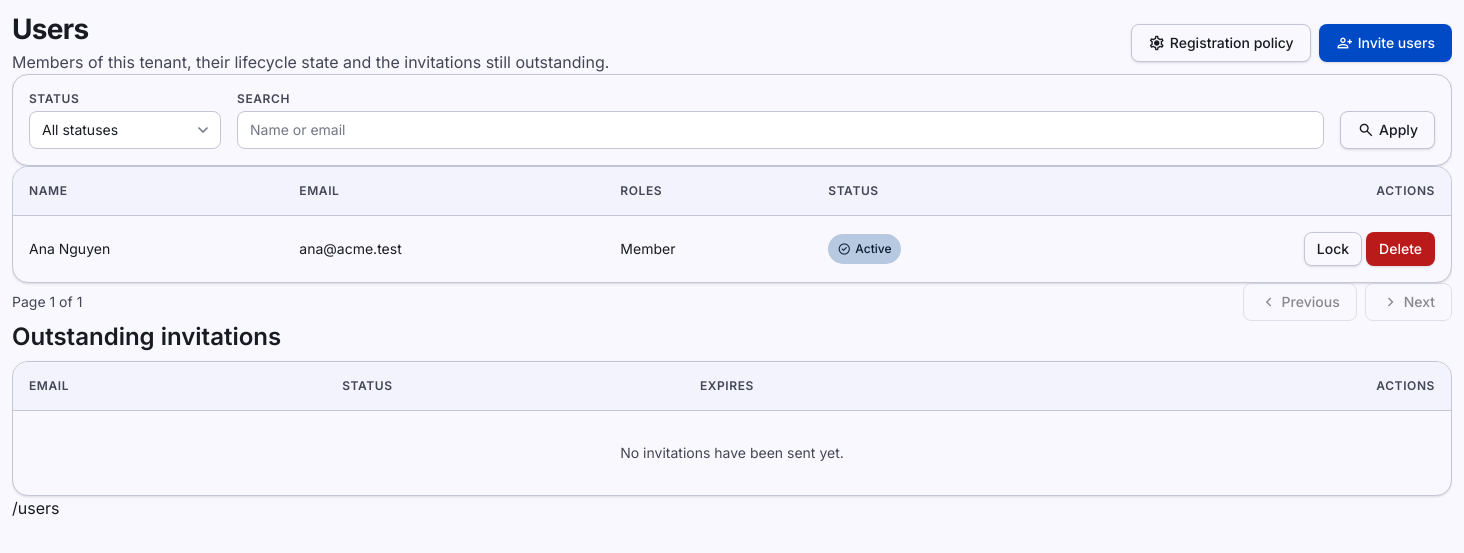
UsersPage › reports an unmapped error code generically rather than echoing the server
Click the button "Lock": point(1333, 249) 1304,232 -> 1362,266
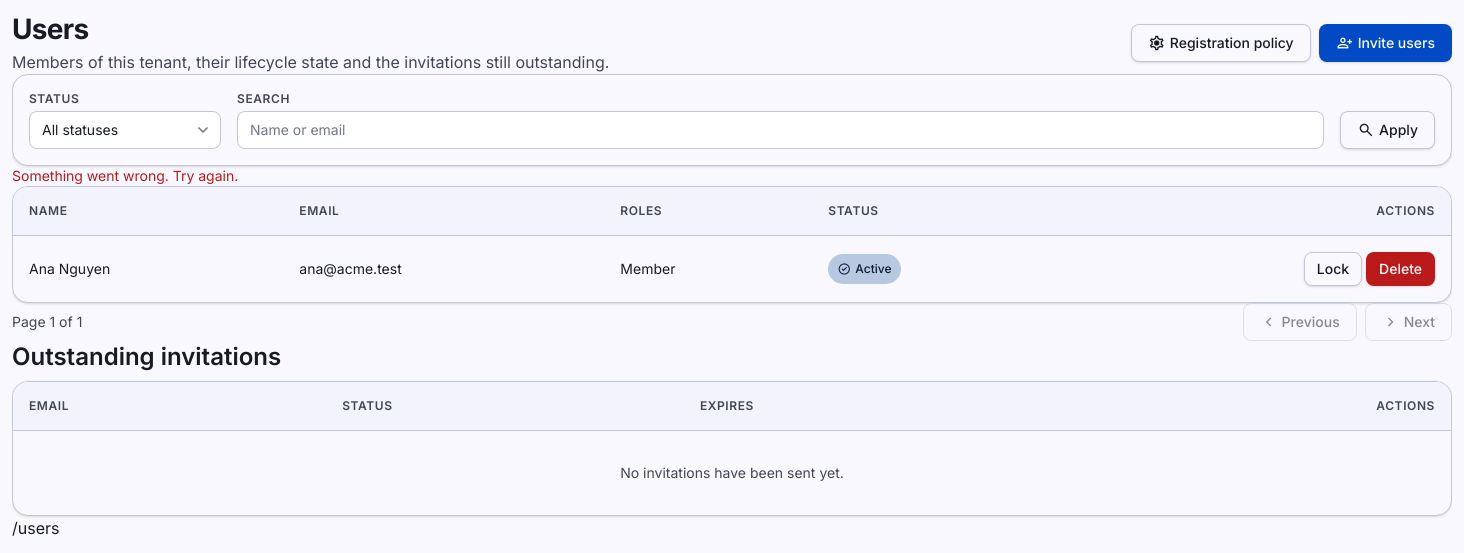
Now the text "Something went wrong. Try again." is shown, box 12,167 -> 238,184
